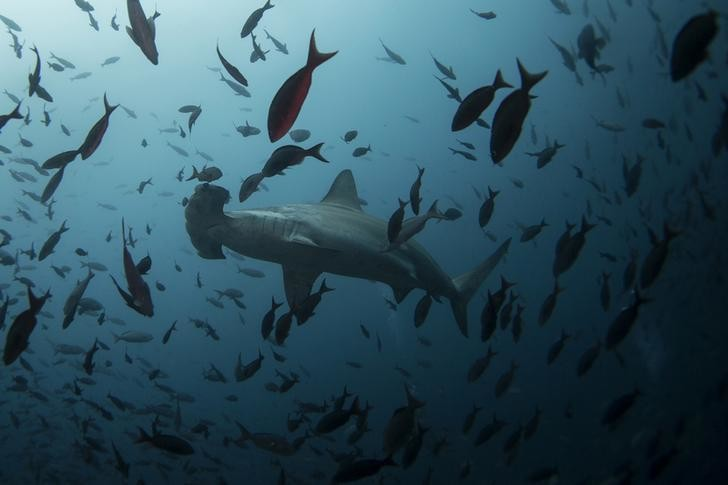shark: (172, 178, 519, 343)
